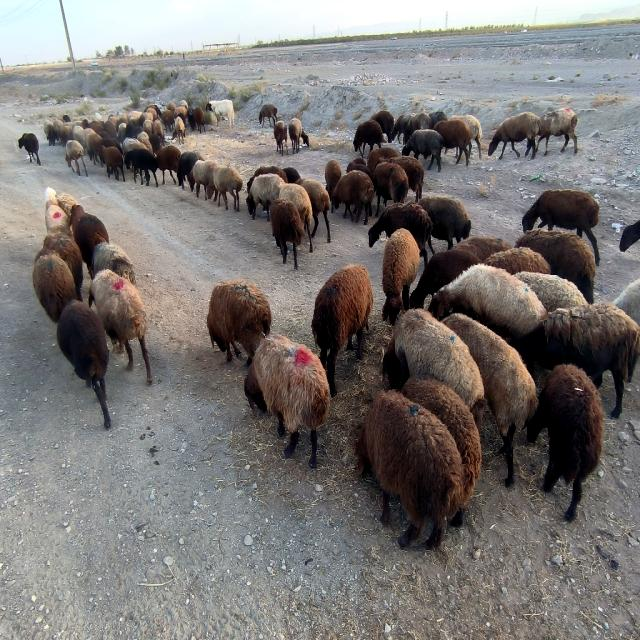sheep: (358, 390, 464, 548), (442, 313, 538, 486), (510, 303, 640, 418), (382, 308, 485, 426), (401, 378, 481, 527), (528, 365, 602, 522), (244, 335, 330, 468), (431, 263, 546, 338), (311, 265, 372, 396), (89, 270, 152, 382), (56, 300, 111, 428), (516, 228, 595, 302), (522, 190, 599, 262), (208, 280, 270, 364), (410, 248, 481, 308), (382, 228, 419, 325), (35, 232, 84, 299), (369, 202, 432, 252), (32, 255, 78, 322), (515, 272, 588, 312), (70, 205, 109, 278), (419, 195, 471, 249), (270, 198, 305, 269), (489, 112, 540, 159), (279, 183, 312, 252), (332, 170, 374, 224), (296, 180, 331, 242), (536, 108, 578, 154), (374, 162, 409, 216), (92, 242, 135, 284), (434, 120, 472, 166), (402, 130, 444, 171), (250, 175, 285, 221), (389, 155, 424, 201), (208, 167, 242, 211), (124, 148, 159, 186), (451, 115, 481, 159), (45, 187, 71, 236), (189, 160, 219, 199), (354, 120, 384, 156), (176, 152, 204, 188), (156, 147, 181, 184), (65, 140, 88, 176), (404, 112, 432, 141), (102, 147, 125, 181), (368, 147, 399, 172), (371, 110, 395, 142), (289, 118, 310, 152), (19, 133, 41, 165), (325, 158, 342, 198), (392, 113, 413, 141), (56, 193, 79, 218), (346, 157, 372, 179), (274, 120, 288, 154), (259, 103, 278, 127), (191, 107, 205, 132), (172, 117, 185, 143), (429, 110, 447, 128)
